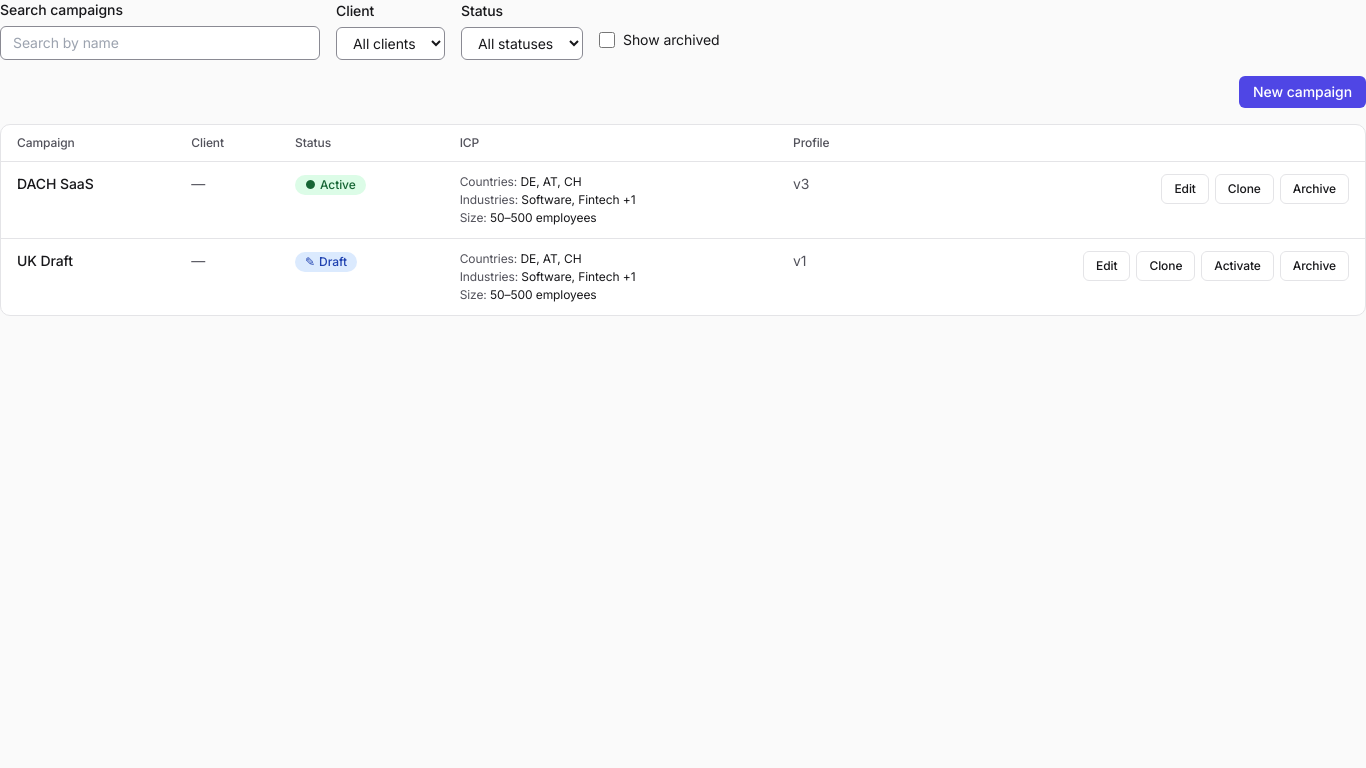
Test case: CampaignList › archives only after confirmation
Click the button with aria-label "Archive DACH SaaS" at (1314, 189), box [1280,174,1349,204]
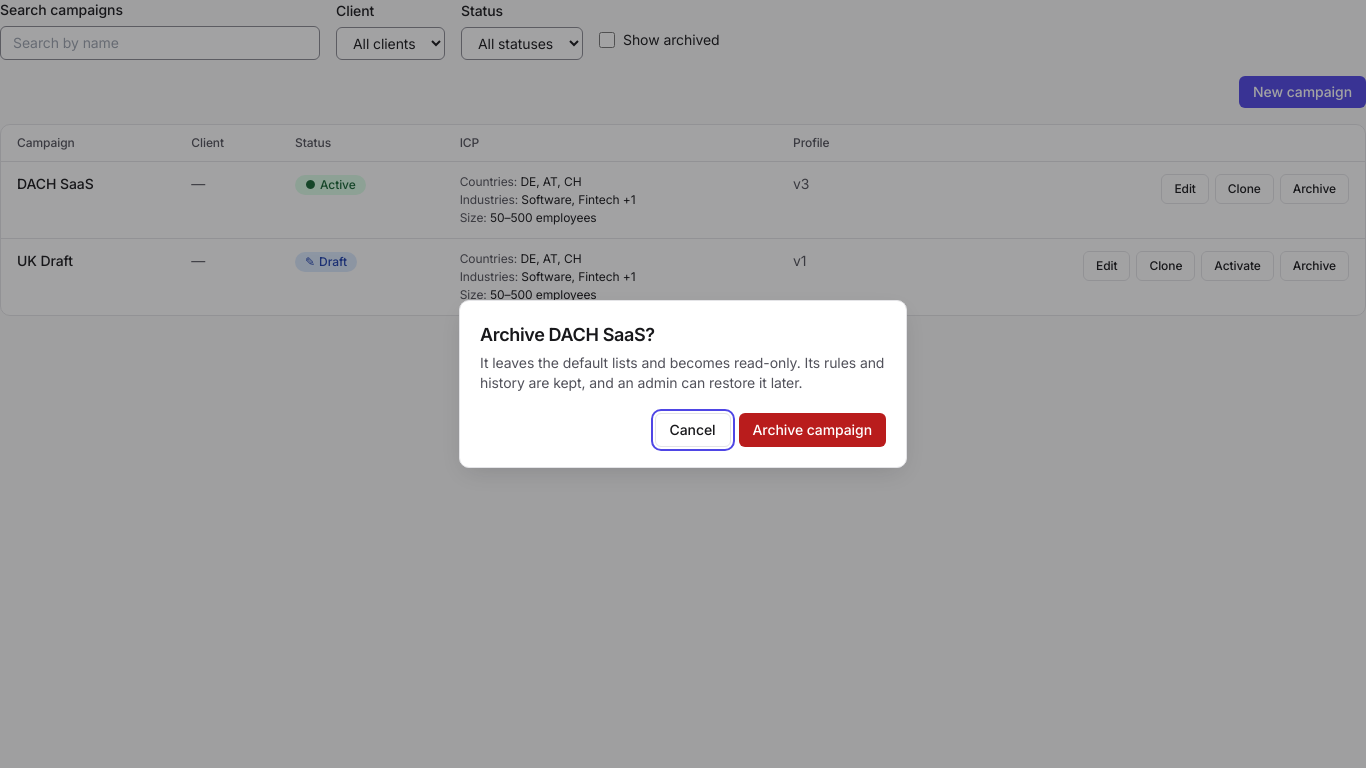
Click the button "Cancel" at (693, 430), box [655,413,731,447]
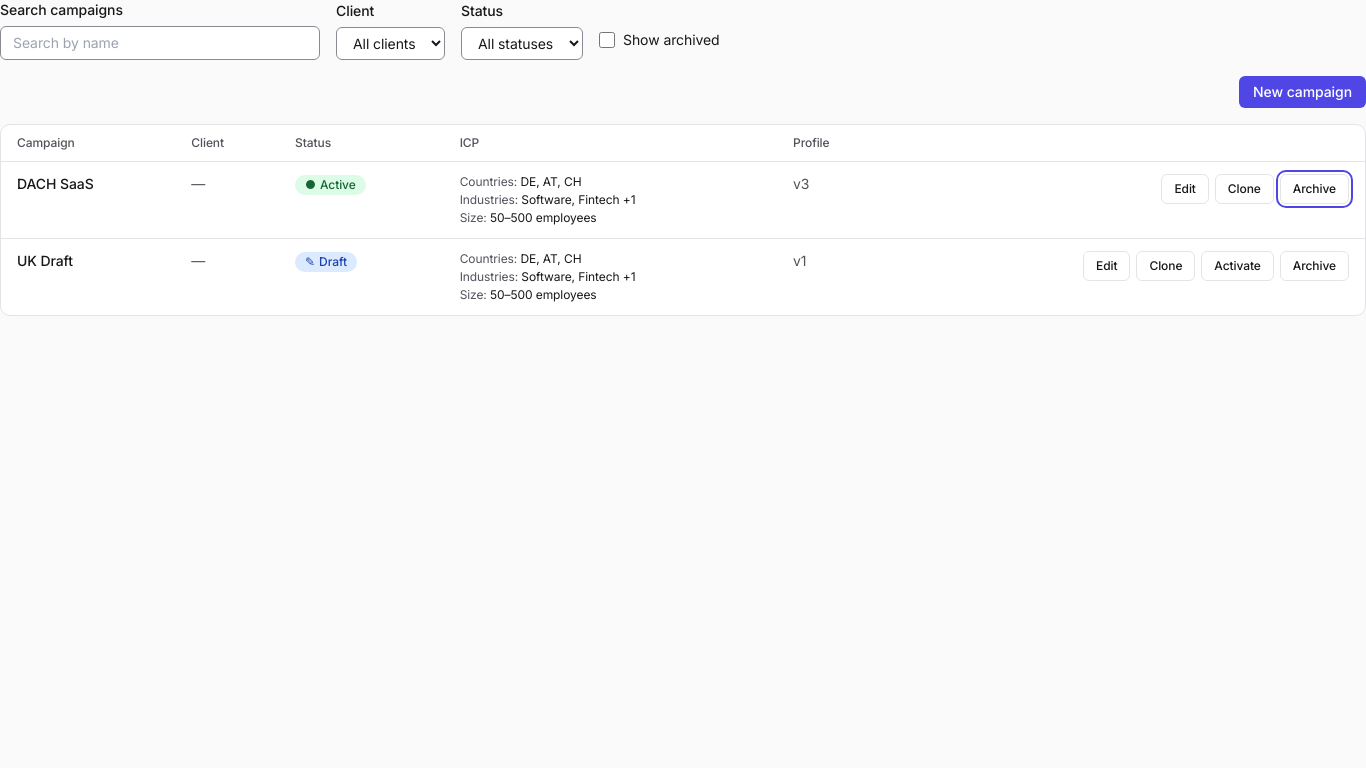
Click the button with aria-label "Archive DACH SaaS" at (1314, 189), box [1280,174,1349,204]
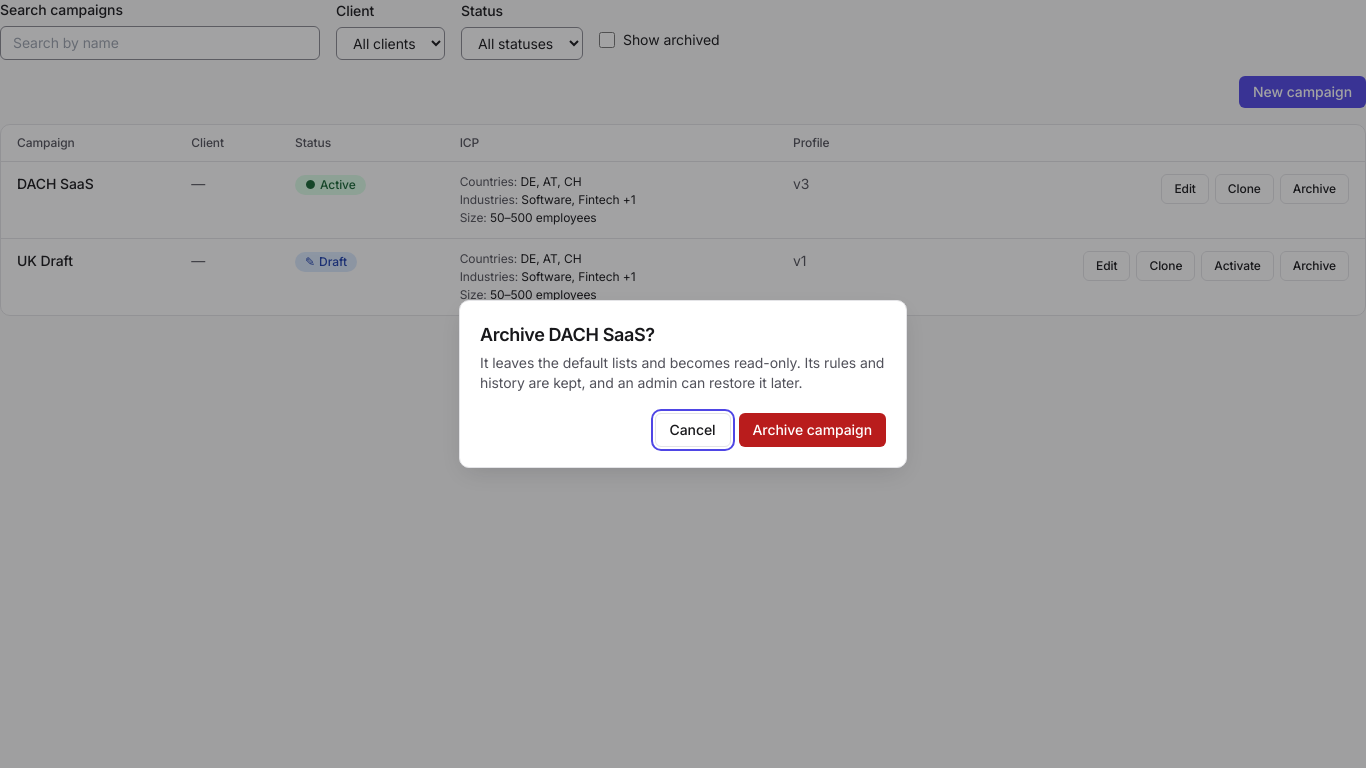
Click the button "Archive campaign" at (812, 430), box [738,413,886,447]
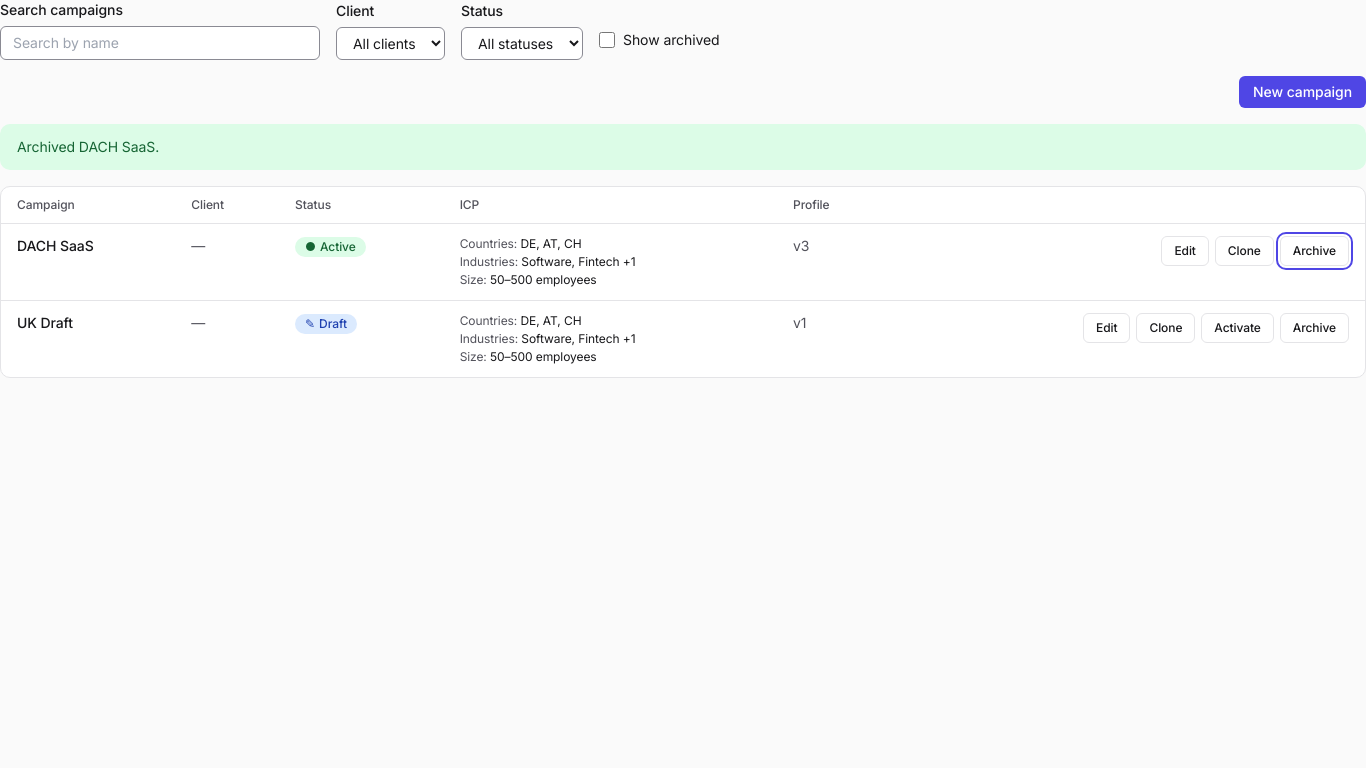
Expected: the text "Archived DACH SaaS." is shown, [17,137,159,157]
